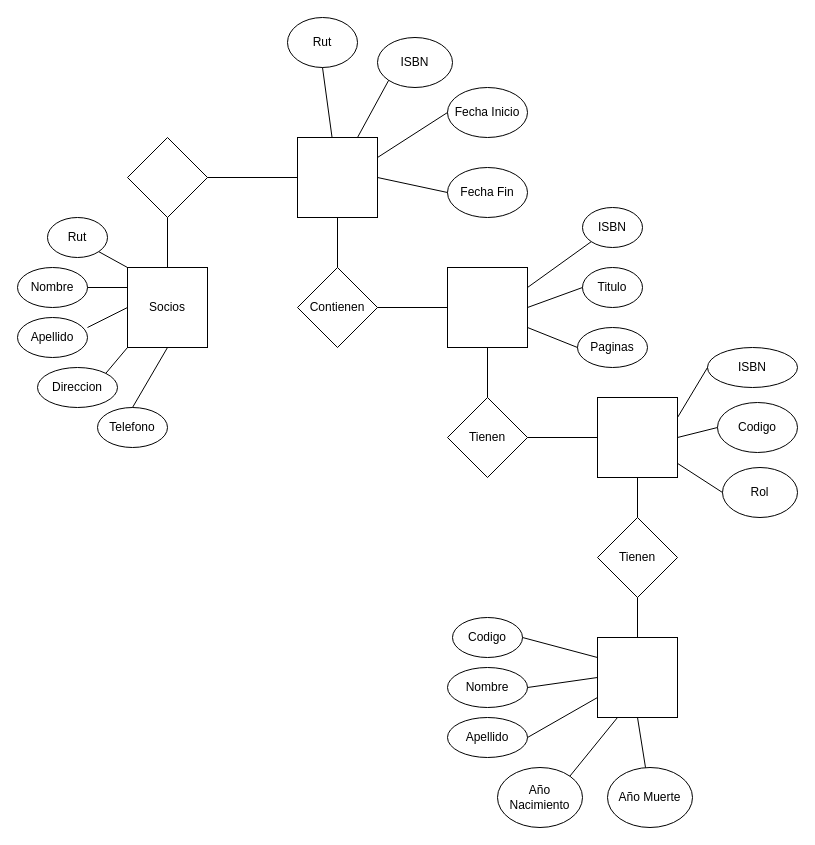
Some shapes in this 815 by 845 pixel diagram are drawn without their labels. Each missing label, with the centre of its shape:
Autores: [637,437]
Datos personales: [637,677]
Libros: [487,307]
Prestamos: [337,177]
Solicita: [167,177]
